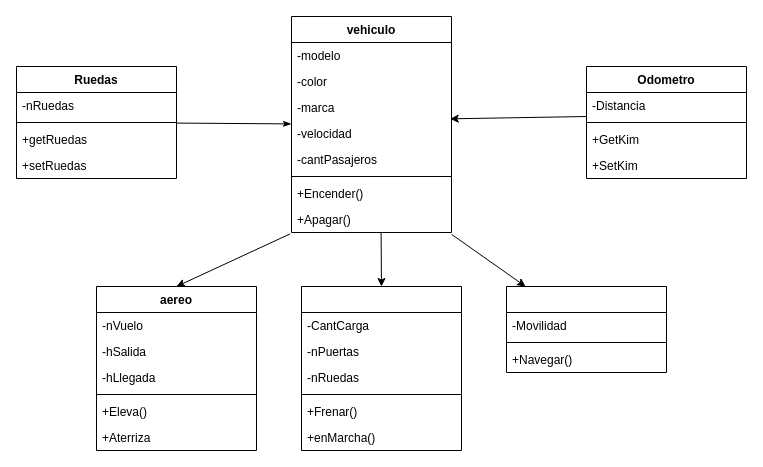
The diagram is 763 pixels wide and 467 high, and some of its shapes have lost their labels. The box of each missing label's shape, as (x1, y1, x2, y2) in pixels:
marino: (506, 286, 666, 372)
terrestre: (300, 286, 462, 450)
